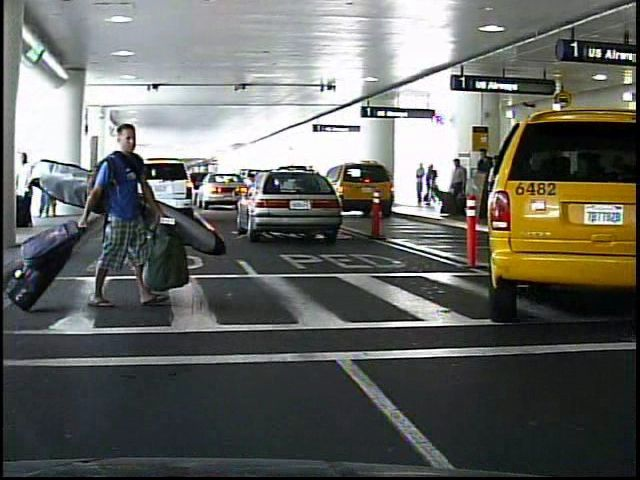person: (89, 114, 162, 328), (446, 158, 468, 220), (485, 145, 499, 215), (413, 163, 425, 208), (425, 165, 435, 209)
